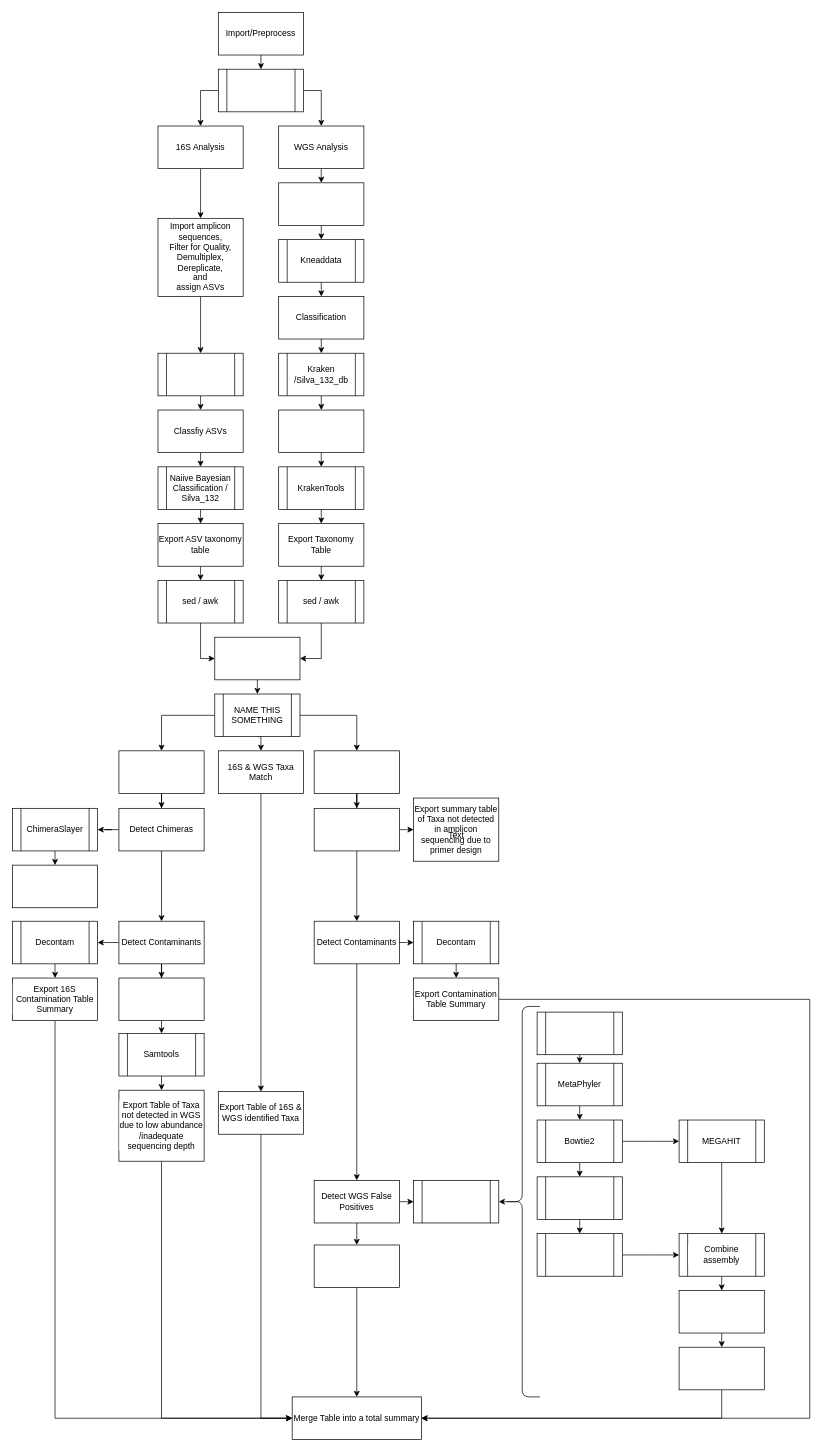
Image size: 828x1452. Some labels were removed from this diagram. The box of each missing label's shape, as (x1, y1, x2, y2) in pixels:
16S only taxa: (118, 750, 204, 793)
buildcontig: (536, 1176, 622, 1219)
Check for amplicon binding site affinity: (313, 808, 399, 851)
Cross reference Phyloseq Tax tables: (214, 637, 300, 680)
DADA2: (157, 353, 243, 396)
Detect False positive based on Assembly coverage: (678, 1290, 764, 1333)
Export Chimera summary / table: (12, 864, 98, 908)
Export Table of WGS False Positive Taxa: (678, 1347, 764, 1390)
Export Table of WGS Only detected non chimeric, non contaminant taxa: (313, 1244, 399, 1288)
kmer-mask: (536, 1011, 622, 1055)
Merge kraken Reports: (278, 409, 364, 453)
Metacompass: (413, 1180, 499, 1223)
Pilon: (536, 1233, 622, 1276)
Query overall WGS Coverage Depth: (118, 977, 204, 1021)
Remove Host Reads: (278, 182, 364, 225)
Trimmomatic: (218, 69, 304, 112)
WGS only taxa: (313, 750, 399, 793)
